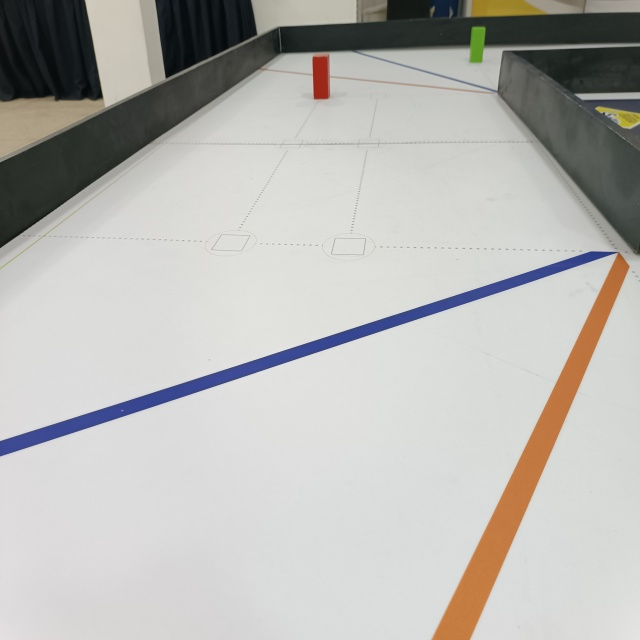blue line: (0, 249, 614, 458), (349, 51, 494, 91)
green rectangular prism: (465, 26, 486, 63)
orange line: (430, 250, 635, 640), (255, 68, 497, 96)
red rectangular prism: (310, 53, 331, 100)
